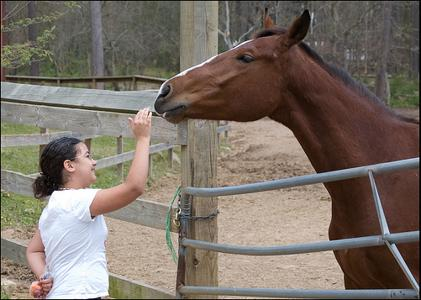person: (25, 108, 154, 300)
